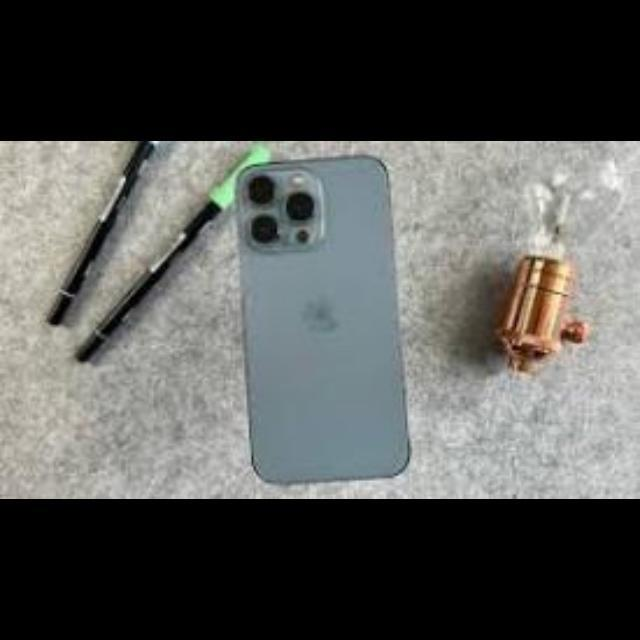phone: (178, 152, 438, 490)
